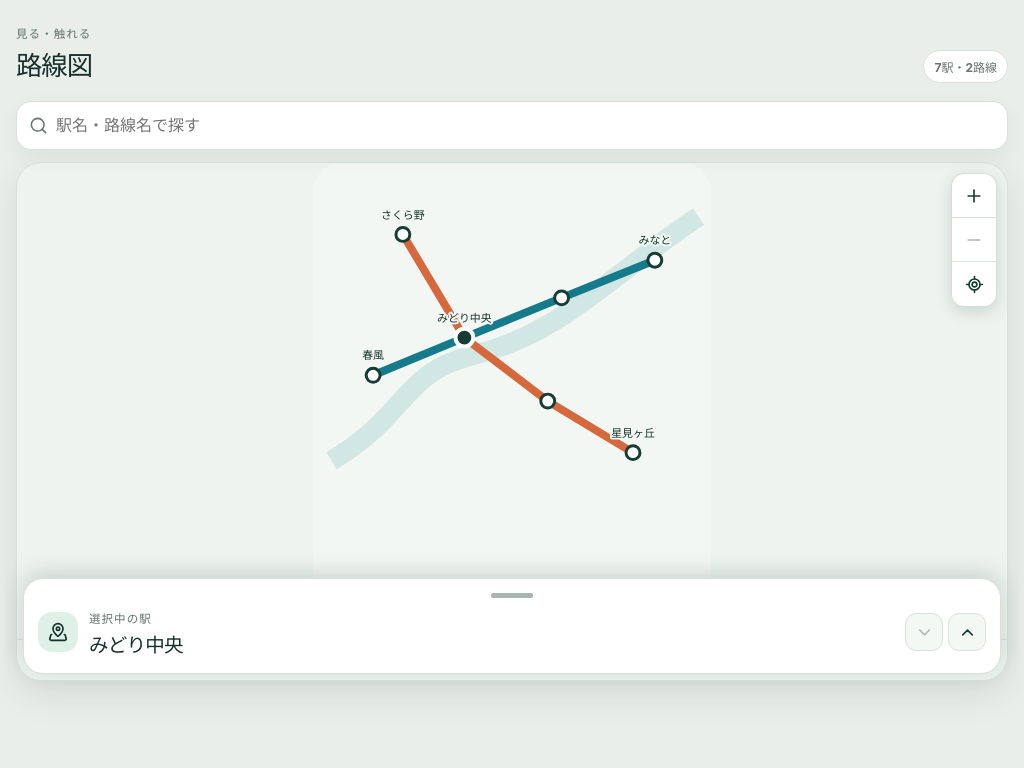
it: MapTab viewport › zooms to a station selected from search
In the search field labelled "駅名・路線名で探す": (526, 126) [56,102,995,149], type "春風"
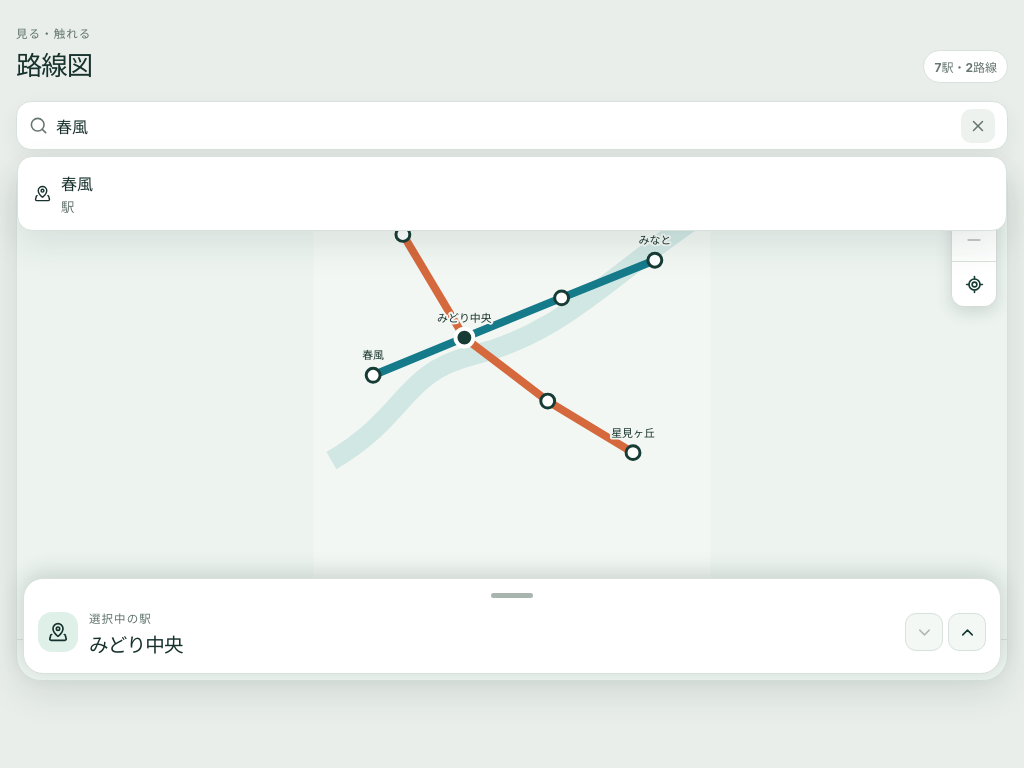
Expected: the button "春風 駅" is shown
Click the button "春風 駅": (77, 184) [24,163,1000,224]
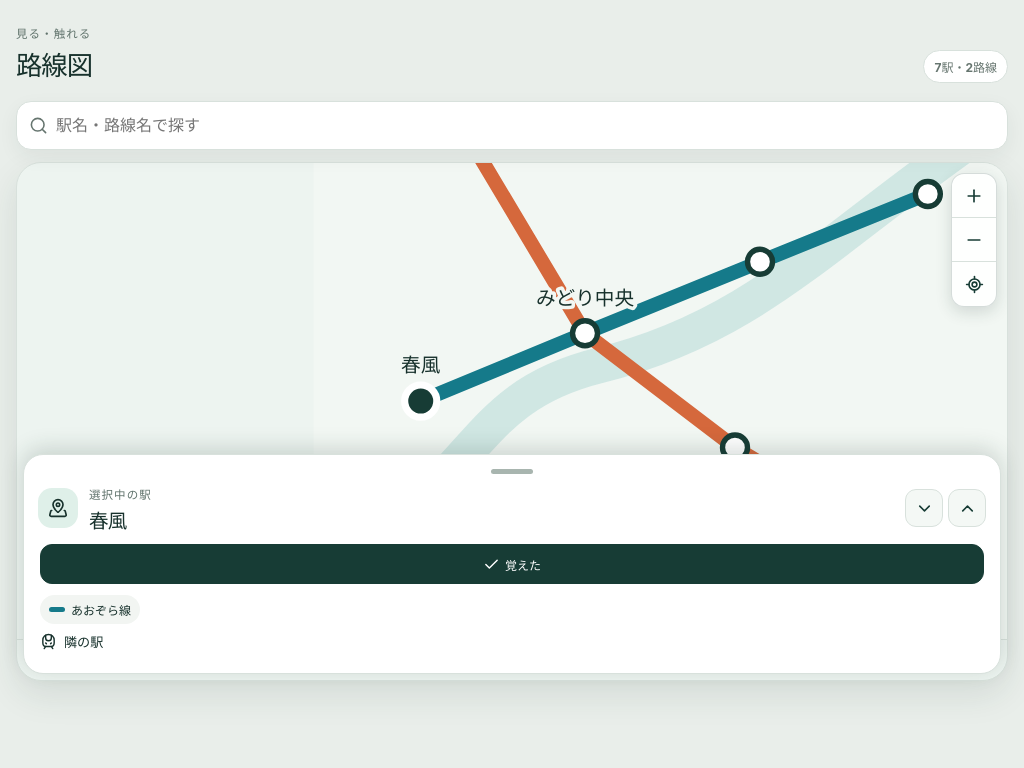
Expected: the heading "春風" is shown, [89,509,126,533]
